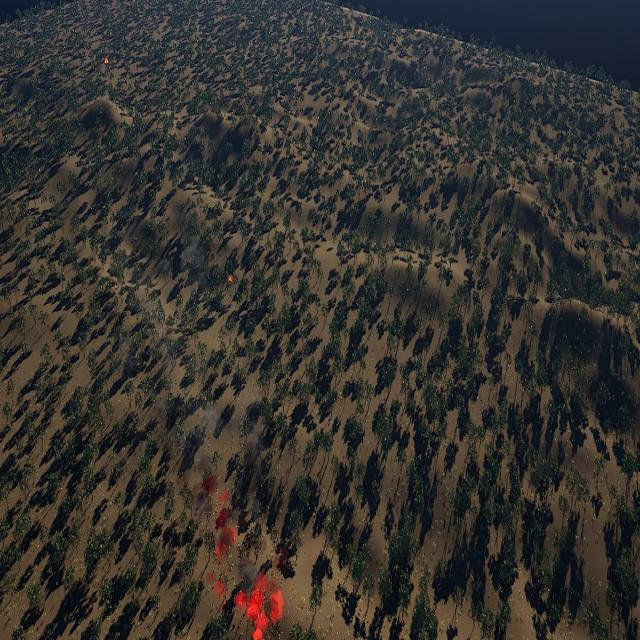fire: (226, 275, 234, 285), (104, 57, 109, 66)
smoke: (203, 471, 236, 597), (237, 570, 285, 638), (182, 227, 211, 286)
